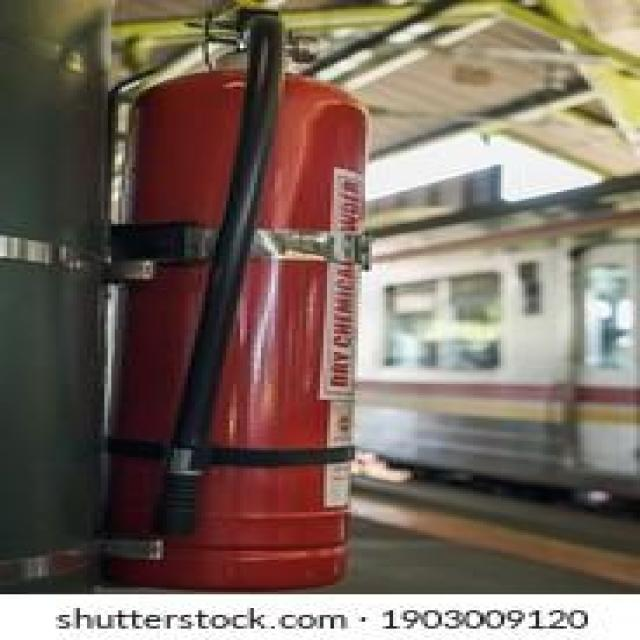fire_extinguisher: (86, 0, 384, 592)
